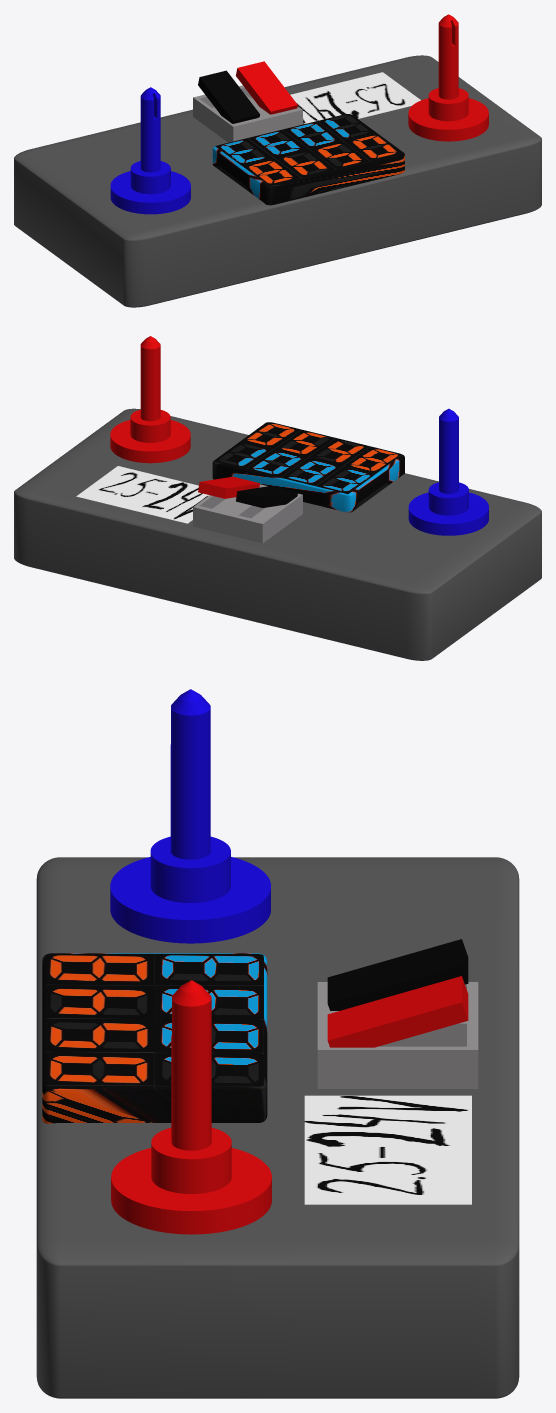
The model's file is lbp.fbx.
3 views of the same model, one above another, from view 1: azimuth 30°, elevation 25°; view 2: azimuth 150°, elevation 25°; view 3: azimuth 270°, elevation 25° (orthographic). The views are drawn at different scales.
Visible parts, largest first — view 1: Main, Display, Voltage, Аmperage, VCC&GND, VCC, GND; view 2: Main, Display, Voltage, Аmperage, VCC&GND, GND, VCC; view 3: Main, Display, Аmperage, Voltage, VCC&GND, VCC, GND.
Part boxes in pixels (x1,y1,x2,y2): Main: (14,55,541,307); Display: (212,114,404,205); Voltage: (408,14,488,141); Аmperage: (110,87,190,214); VCC&GND: (193,85,302,142); VCC: (236,61,297,114); GND: (198,70,259,123); Main: (14,408,541,660); Display: (212,422,404,512); Voltage: (110,336,190,463); Аmperage: (408,408,488,535); VCC&GND: (193,484,302,543); GND: (236,486,297,507); VCC: (198,476,259,498); Main: (36,857,519,1398); Display: (42,953,267,1123); Аmperage: (110,689,270,943); Voltage: (111,980,271,1234); VCC&GND: (317,982,478,1088); VCC: (327,976,468,1047); GND: (327,939,468,1010).
Size of the model in its own units: 1200 by 502 by 600.
